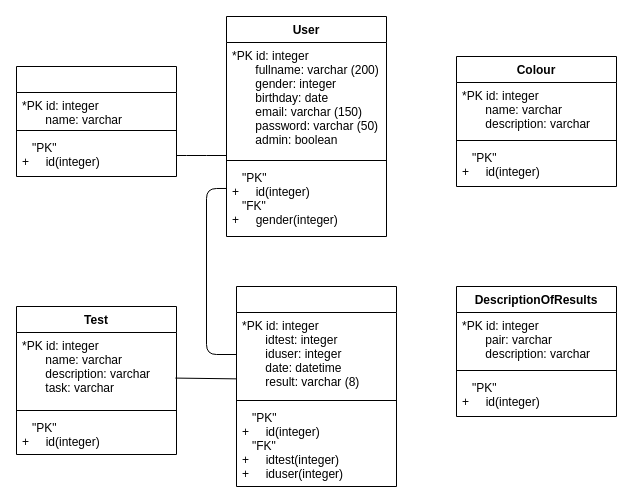
The diagram is 633 pixels wide and 503 high, and some of its shapes have lost their labels. Each missing label, with the box of its shape:
Gender: (16, 66, 176, 176)
TestResults: (236, 286, 396, 486)
